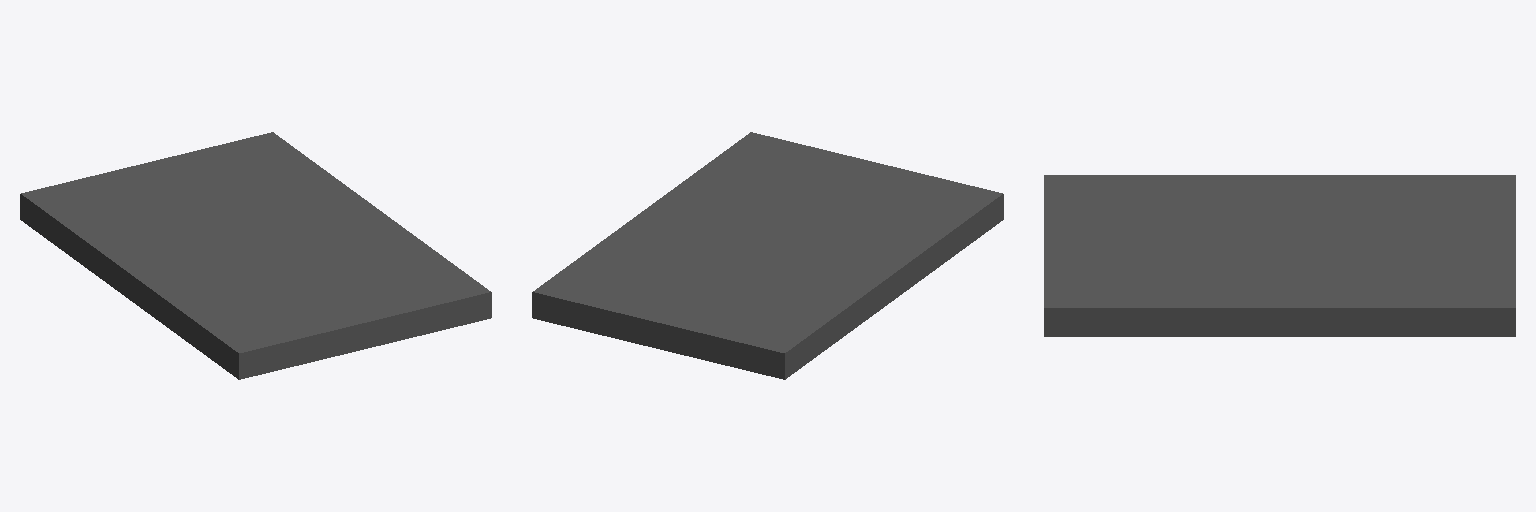
robot.urdf — tablemat:
<?xml version="1.0"?>
<robot name="tablemat">
    <material name="color">
        <color rgba="0.4 0.4 0.4 1"/>
    </material>
    <link name="base">
        <collision name="box_collision">
          <geometry>
            <box size="1 1.5 0.1"/>

          </geometry>
        </collision>
        <visual name="box_visual">
            <origin xyz="0 0 0" rpy="0 0 0"/>
          <material name="color"/>

          <geometry>
            <box size="1 1.5 0.1"/>
          </geometry>

        </visual>
        <inertial>
			<mass value="0.1"/>
			<inertia ixx="0.6" ixy="0.0" ixz="0.0" iyy="0.5" iyz="-0.0" izz="0.08"/>
		</inertial>
      </link>
</robot>

--- What the picture shows (computed from the rendered views, not written in the file) ---
Views: 3 orthographic renders of the robot side by side, from view 1: azimuth 30°, elevation 25°; view 2: azimuth 150°, elevation 25°; view 3: azimuth 270°, elevation 25°.
Model tablemat with 1 links and 0 joints (none), rooted at base, posed all joints at 0.
Visible links, largest first — view 1: base; view 2: base; view 3: base.
Link boxes in pixels (<box>): base: <box>20,132,491,379</box>; base: <box>532,132,1003,379</box>; base: <box>1044,175,1515,336</box>.
Size in the robot's own frame: 1 by 1.5 by 0.1 metres.
Geometry: primitives only (box / cylinder / sphere), no mesh files.